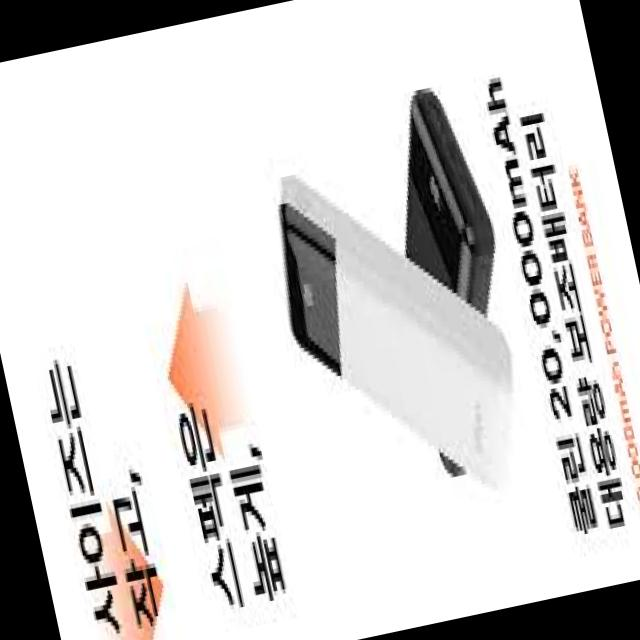power_bank: (256, 135, 540, 532), (353, 76, 545, 490)
